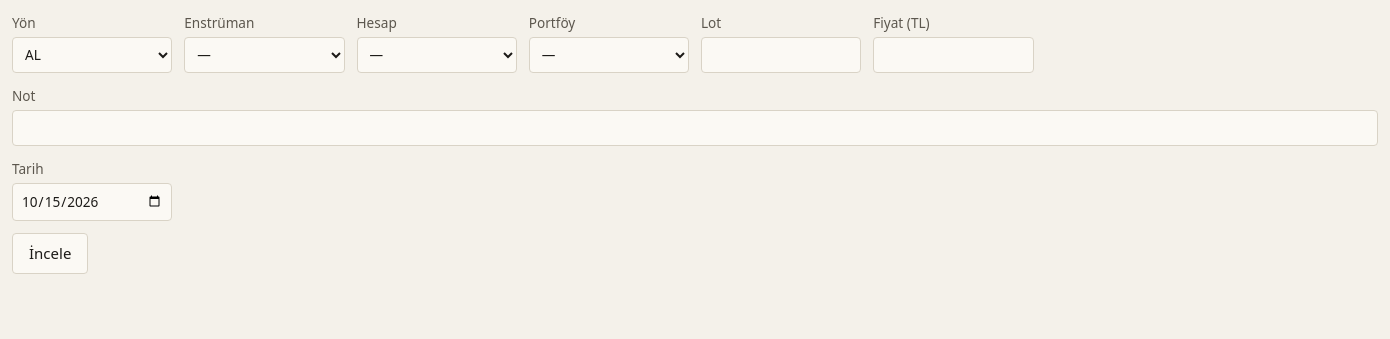
Test: IslemFormu › rejects a SAT beyond the open lot
Select "SAT" in the dropdown labelled "Yön" at (92, 55), box [12, 37, 172, 73]
Select "THYAO" in the dropdown labelled "Enstrüman" at (264, 55), box [184, 37, 345, 73]
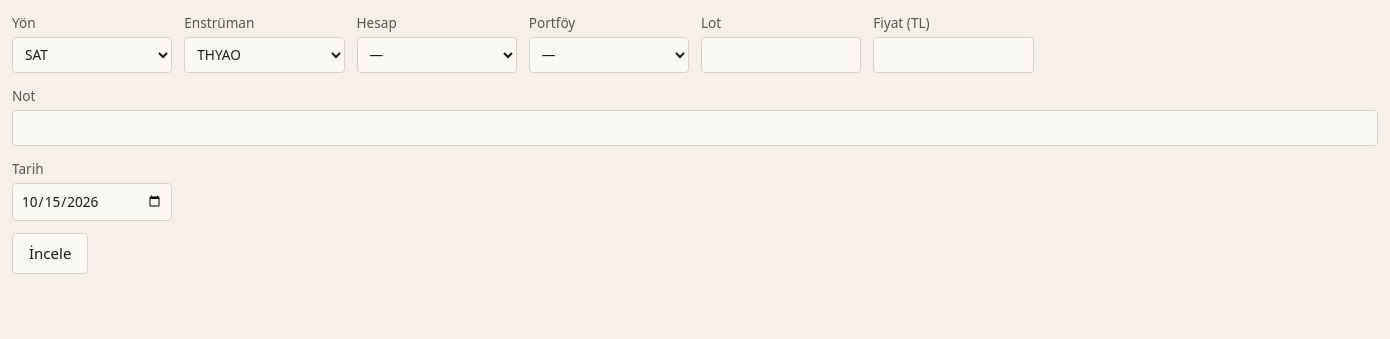
Select "Garanti Yatırım" in the dropdown labelled "Hesap" at (437, 55), box [356, 37, 517, 73]
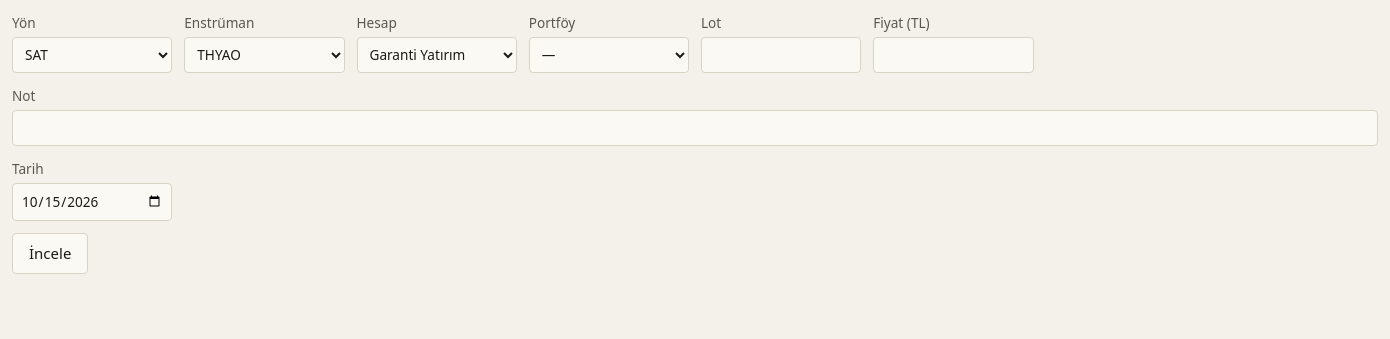
Select "ENIS — Enis (kendi seçimlerim)" in the dropdown labelled "Portföy" at (609, 55), box [529, 37, 689, 73]
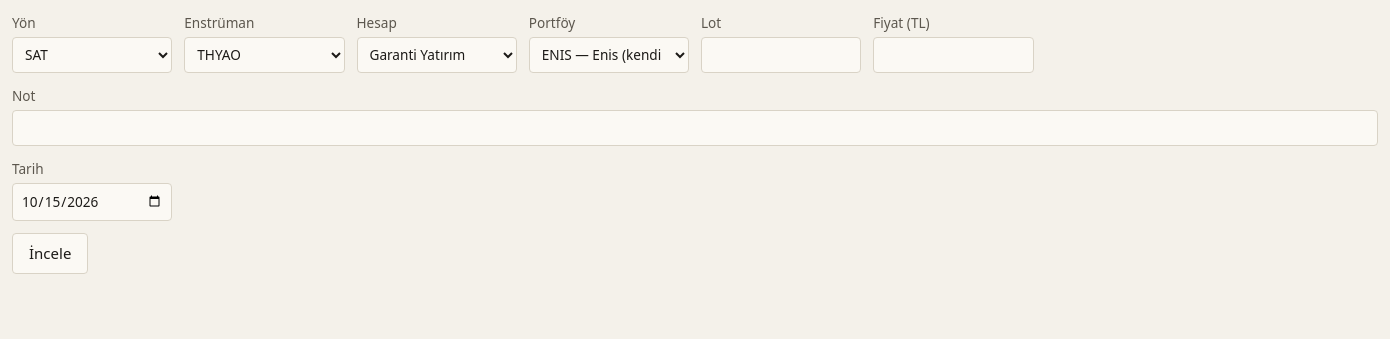
Type "999999" into the number field labelled "Lot" at (781, 55), box [701, 37, 861, 73]
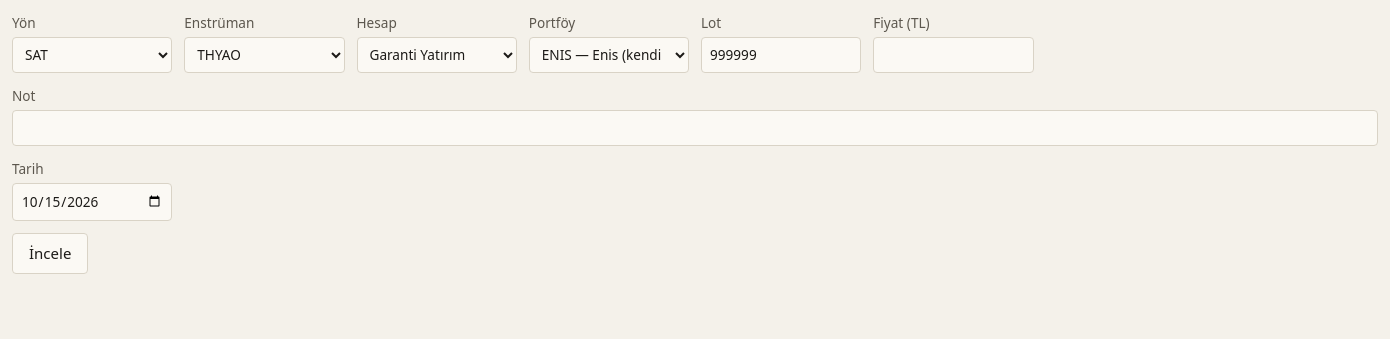
Type "10" into the number field labelled "Fiyat (TL)" at (953, 55), box [873, 37, 1034, 73]
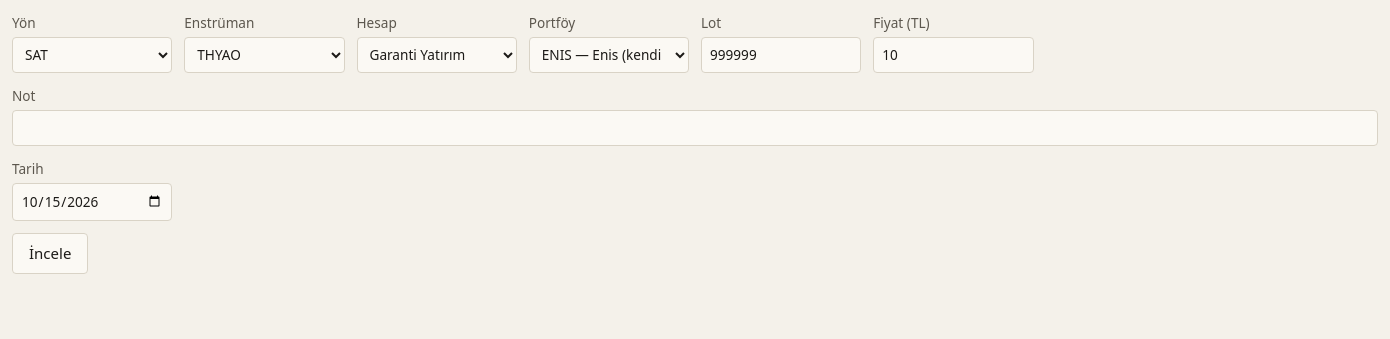
Click the button "İncele" at (50, 253), box [12, 233, 88, 274]
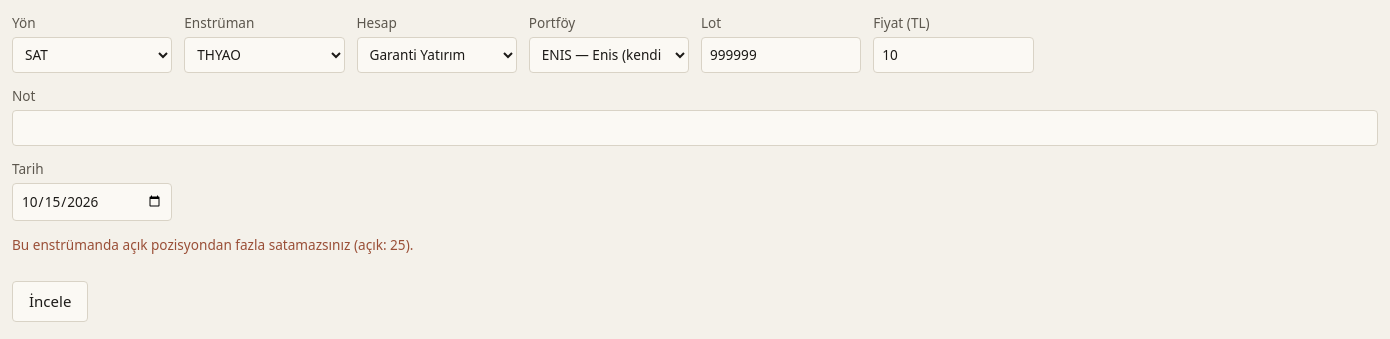
Expected: the text "açık pozisyondan fazla" is shown, [12, 235, 413, 254]
